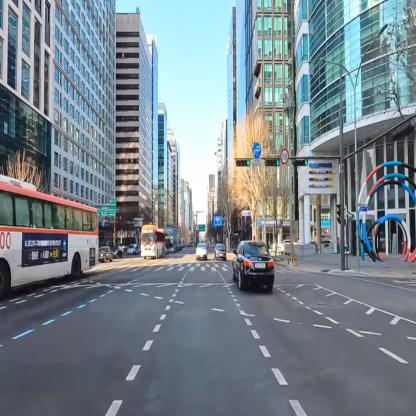Green: (236, 158, 251, 168), (265, 158, 280, 168), (294, 157, 308, 167)
